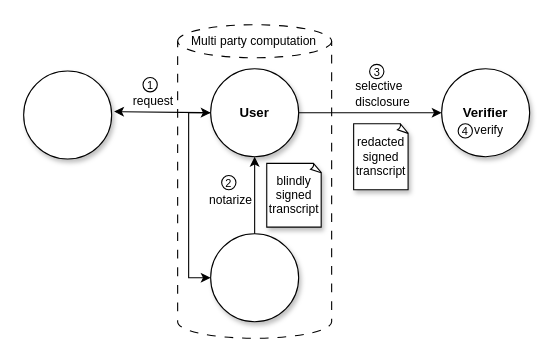
The diagram is 556 pixels wide and 358 high, and some of its shapes have lost their labels. Here are the shapes that lost their labels. From the top down, the centre of each, then its label:
(x=68, y=116): Server
(x=255, y=278): Notary
